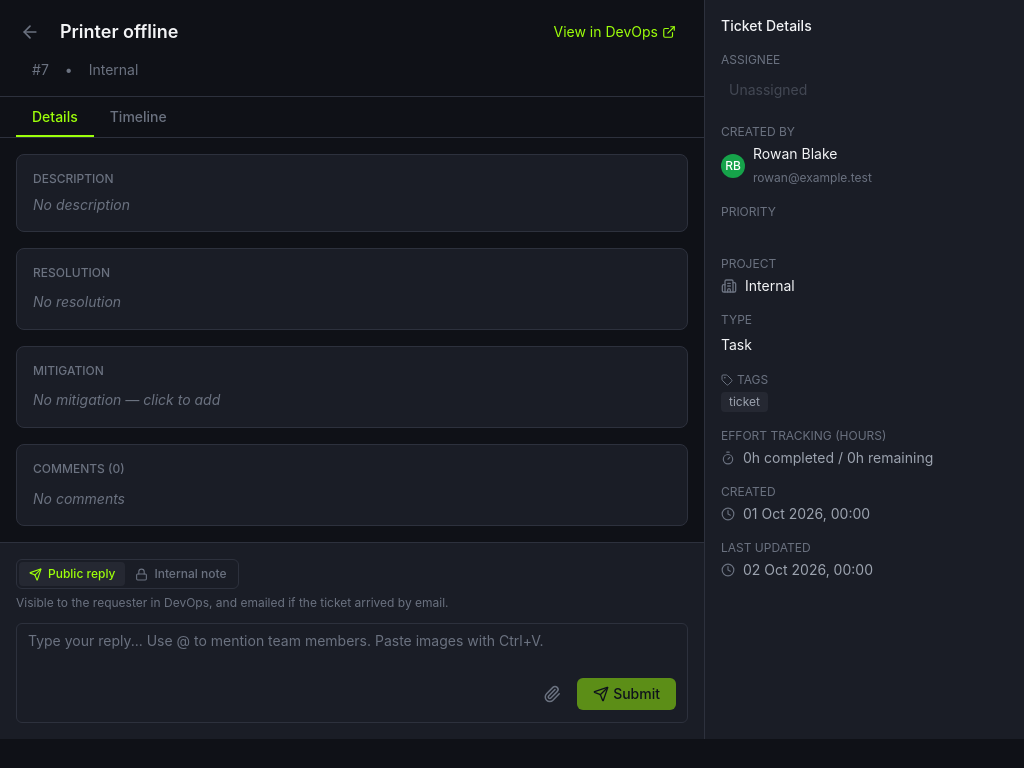
it: timeline attribution of an emailed ticket › still credits the sender after the email tags are removed
Click the button "Timeline". click: (138, 117)
box: [94, 97, 183, 137]
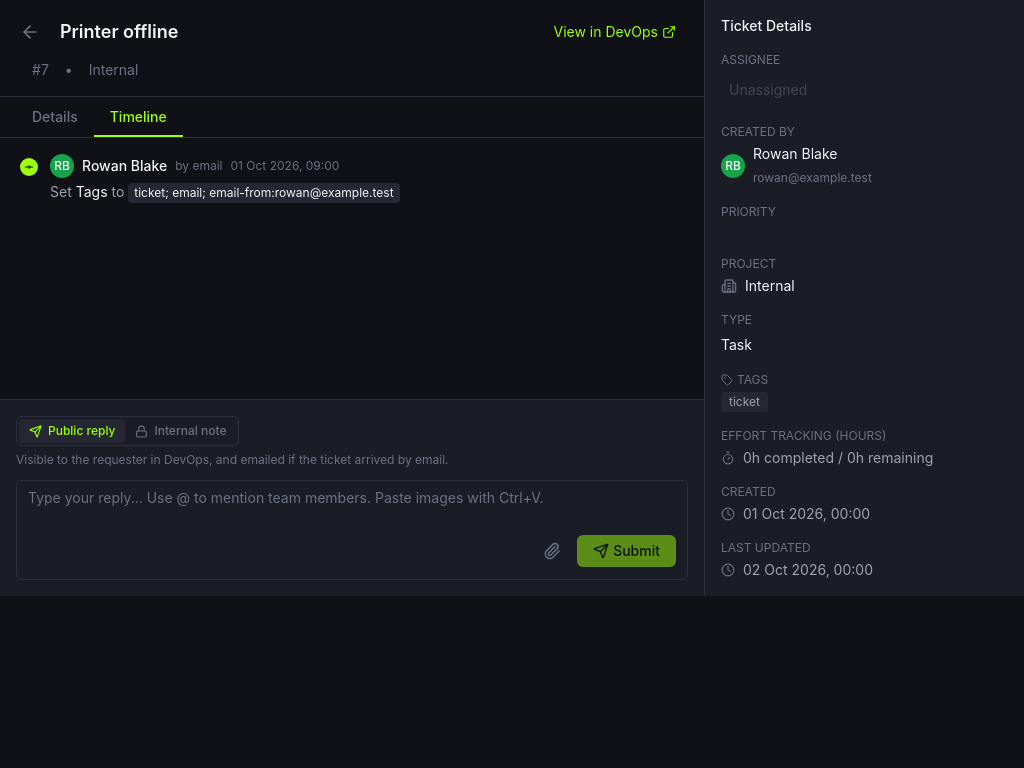
Expected: the text "by email" is shown, [175, 158, 222, 174]
